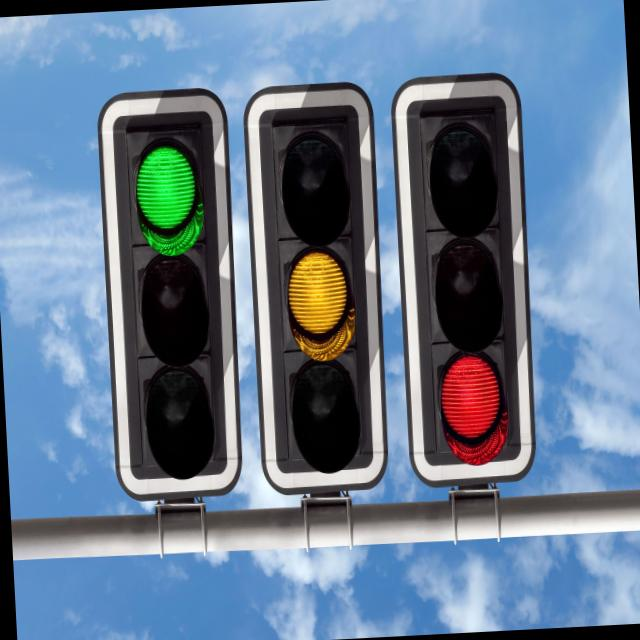green-lights: (126, 133, 210, 252)
red-lights: (432, 347, 510, 462)
yellow-lights: (276, 237, 362, 361)
